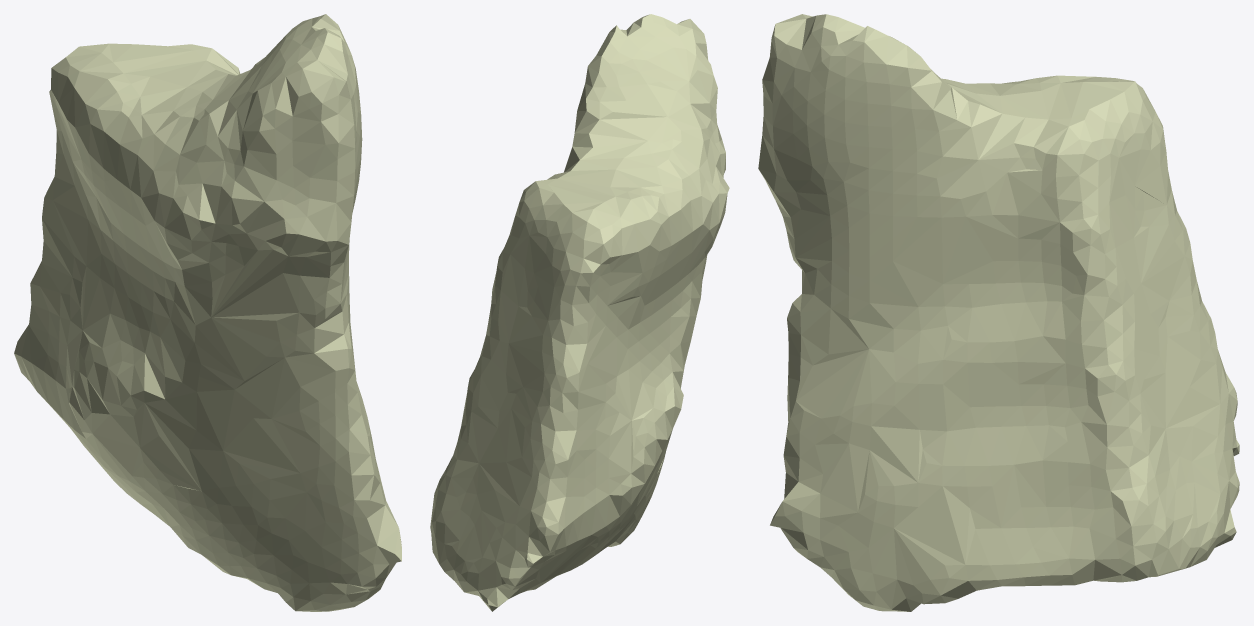
File: Model_45_RH__Area_13a_of_cortex_(A13a).obj
3 views of the same model, side by side, from view 1: azimuth 30°, elevation 25°; view 2: azimuth 150°, elevation 25°; view 3: azimuth 270°, elevation 25° (orthographic). The views are drawn at different scales.
Size of the model in its own units: 1.02 by 2.53 by 1.93.
